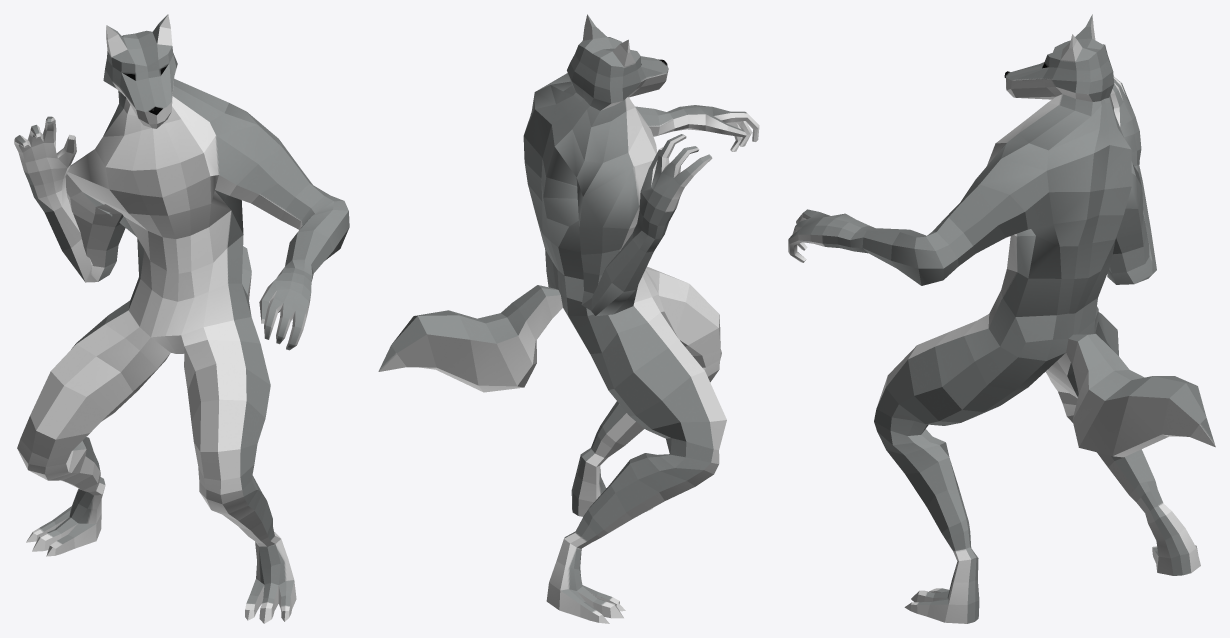
The model's file is WolfDead(5).obj.
3 views of the same model, side by side, from view 1: azimuth 30°, elevation 25°; view 2: azimuth 150°, elevation 25°; view 3: azimuth 270°, elevation 25° (orthographic).
Visible parts, largest first — view 1: Box001; view 2: Box001; view 3: Box001.
Part boxes in pixels (x1,y1,x2,y2): Box001: (14,14,349,623); Box001: (378,14,759,623); Box001: (788,14,1215,623).
Bounding box in the file's own units: 74.83 × 143 × 99.3.
